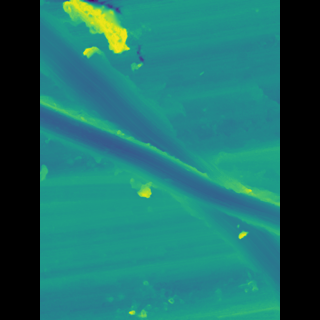Loch: (70, 5, 250, 301), (70, 105, 250, 233)
